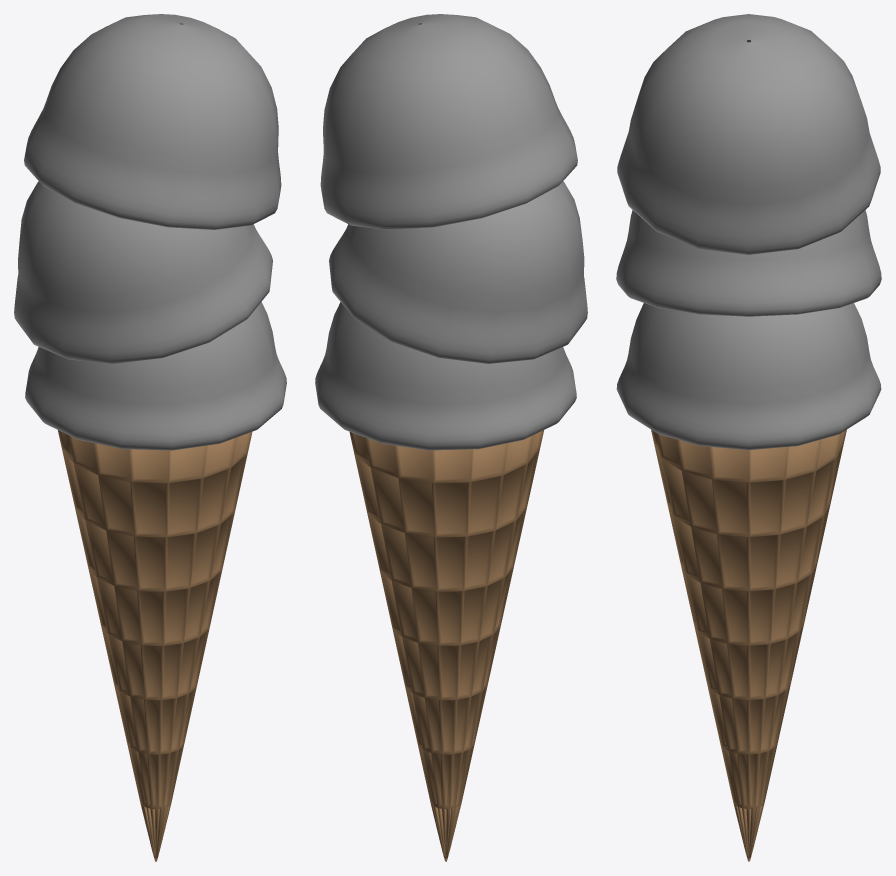
Rendered from iceCream.obj.
3 renders of one model, left to right at view 1: azimuth 30°, elevation 25°; view 2: azimuth 150°, elevation 25°; view 3: azimuth 270°, elevation 25°, orthographic.
Visible parts, largest first — view 1: Line003, Cone001, Line002, Line001; view 2: Line003, Cone001, Line002, Line001; view 3: Line003, Cone001, Line001, Line002.
Part boxes in pixels (left/top/right/bottom): Line003: left=24, top=14, right=281, bottom=229; Cone001: left=58, top=430, right=252, bottom=861; Line002: left=14, top=181, right=272, bottom=363; Line001: left=25, top=302, right=286, bottom=450; Line003: left=320, top=14, right=577, bottom=229; Cone001: left=349, top=430, right=543, bottom=861; Line002: left=329, top=181, right=587, bottom=363; Line001: left=315, top=302, right=576, bottom=450; Line003: left=617, top=14, right=880, bottom=254; Cone001: left=651, top=429, right=846, bottom=861; Line001: left=616, top=303, right=881, bottom=449; Line002: left=616, top=210, right=881, bottom=316.
Size of the model in its own units: 10.48 by 34.89 by 10.03.
